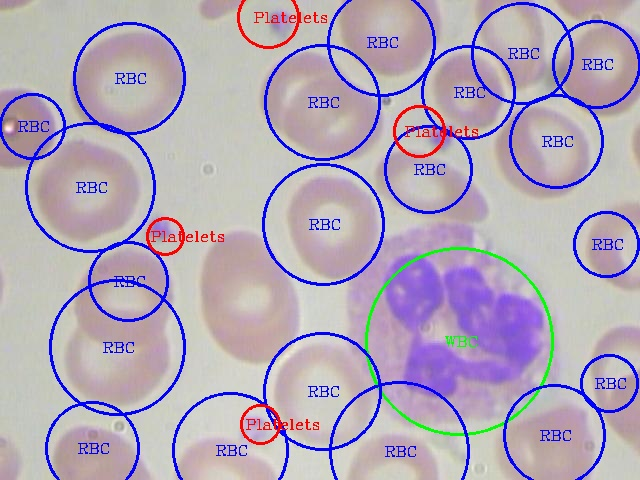Platelets: (236, 405, 276, 447), (140, 207, 179, 246), (263, 4, 301, 40), (423, 120, 459, 153)
RBC: (190, 225, 306, 367), (66, 25, 192, 138), (266, 336, 381, 447), (30, 133, 146, 241), (65, 243, 181, 349), (56, 306, 176, 408), (280, 168, 384, 279), (488, 100, 599, 199), (365, 142, 490, 223), (279, 73, 389, 162), (484, 403, 600, 478), (333, 0, 446, 75), (554, 19, 638, 117), (469, 0, 553, 93), (251, 48, 341, 129), (40, 418, 155, 478), (425, 48, 510, 129), (580, 318, 639, 423), (578, 194, 638, 293), (163, 428, 279, 478), (339, 425, 444, 478), (1, 81, 61, 171)
WBC: (328, 223, 580, 438)
